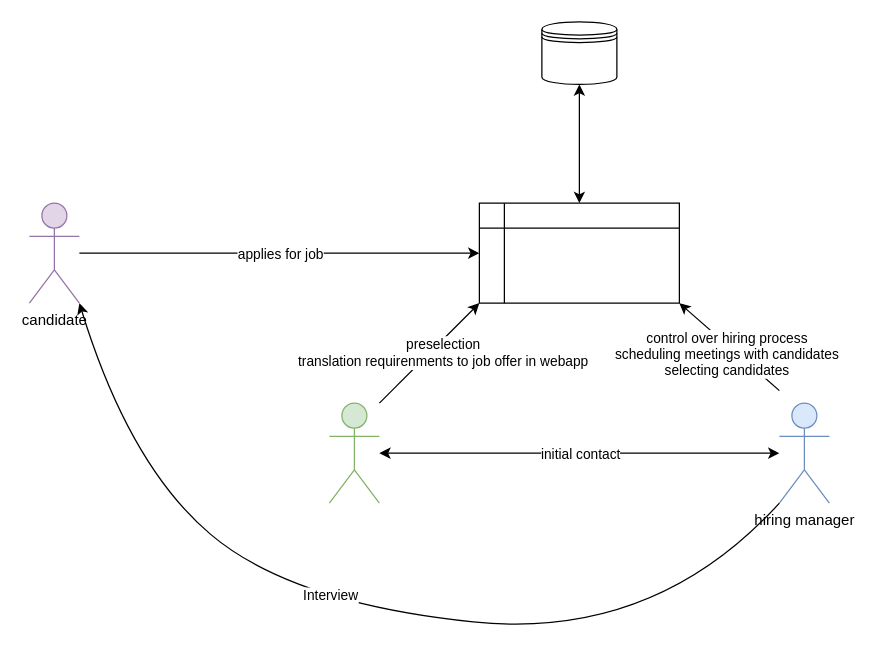
The diagram is 875 pixels wide and 646 high, and some of its shapes have lost their labels. The centre of each missing label's shape, as x and y in pixels:
recruiter: point 353,452
WebApp: point 578,252
